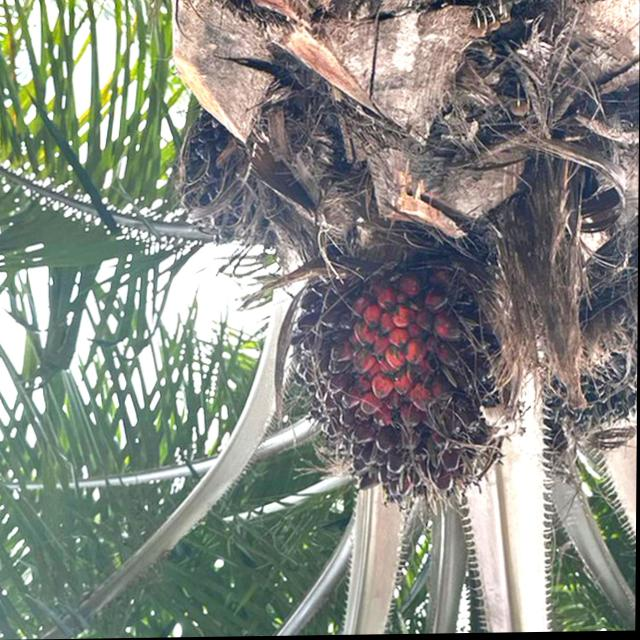ripe: (285, 265, 525, 524), (178, 114, 273, 249), (546, 351, 638, 448)
